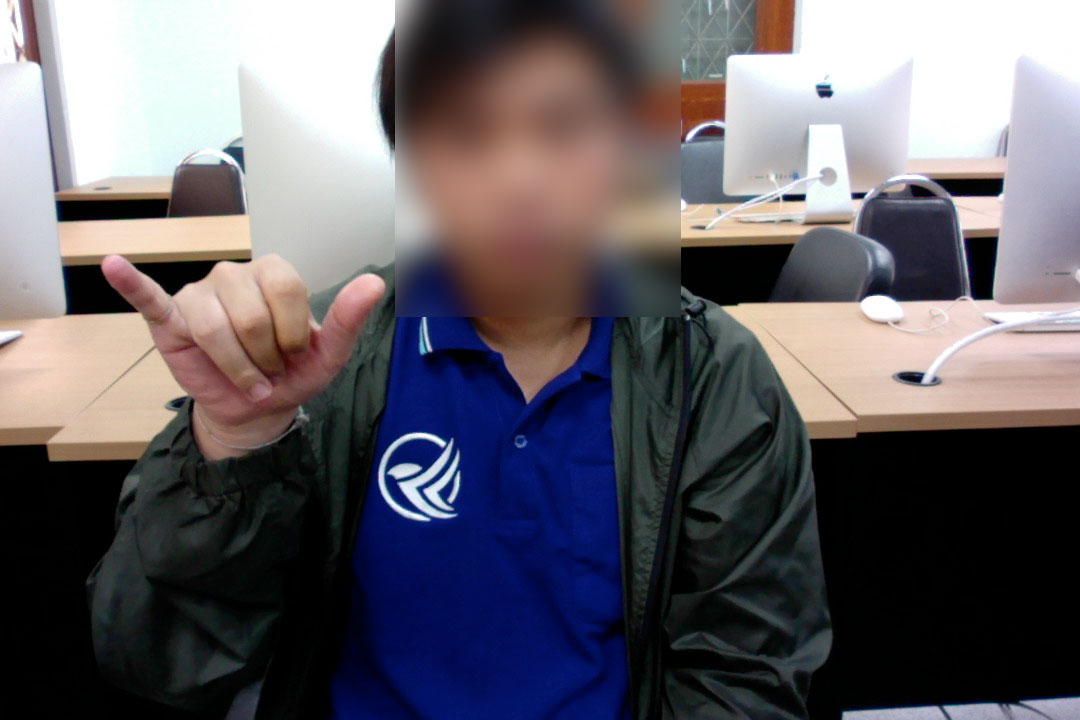yor: (97, 246, 399, 434)
